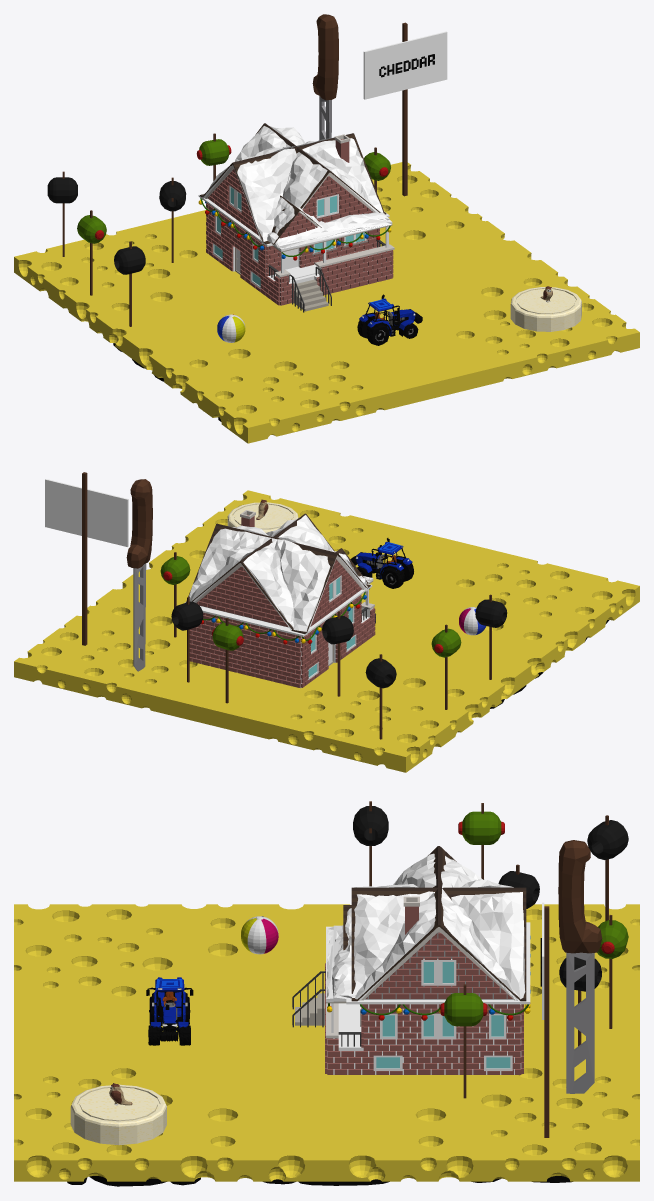
The picture shows the model from 3 angles, top to bottom: view 1: azimuth 30°, elevation 25°; view 2: azimuth 150°, elevation 25°; view 3: azimuth 270°, elevation 25°; orthographic projection. The views are drawn at different scales.
Parts seen in each view (by area): view 1: Cube.022, Cube.1419, Cube.023, Cylinder.016, Cube.024, VEHICLES_TRACTOR, Sphere.017, Sphere.016, Sphere.020, Sphere.018, Sphere.022, OBJRANDOM_BEACHBALL (+1 smaller); view 2: Cube.022, Cube.1419, Cube.023, Cube.024, VEHICLES_TRACTOR, Cylinder.016, Sphere.020, Sphere.016, Sphere.022, Sphere.017, Sphere.021, Sphere.018 (+2 smaller); view 3: Cube.022, Cube.1419, Cube.024, Cylinder.016, VEHICLES_TRACTOR, Cube.023, Sphere.019, Sphere.016, Sphere.018, Curve.014, Sphere.017, Sphere.022 (+3 smaller).
Boxes of the visible parts, box(x1,y1,x2,y2) form: Cube.022: box(14, 162, 639, 443); Cube.1419: box(198, 123, 394, 312); Cube.023: box(363, 22, 447, 196); Cylinder.016: box(510, 287, 581, 331); Cube.024: box(312, 14, 338, 140); VEHICLES_TRACTOR: box(357, 294, 422, 345); Sphere.017: box(114, 241, 145, 326); Sphere.016: box(47, 171, 77, 256); Sphere.020: box(159, 177, 186, 262); Sphere.018: box(77, 210, 106, 295); Sphere.022: box(196, 133, 231, 180); OBJRANDOM_BEACHBALL: box(217, 314, 245, 342); Cube.022: box(14, 490, 639, 772); Cube.1419: box(185, 510, 375, 688); Cube.023: box(45, 472, 128, 645); Cube.024: box(126, 479, 152, 671); VEHICLES_TRACTOR: box(350, 538, 413, 588); Cylinder.016: box(227, 502, 298, 532); Sphere.020: box(322, 611, 353, 696); Sphere.016: box(365, 654, 396, 739); Sphere.022: box(212, 618, 243, 703); Sphere.017: box(475, 594, 507, 679); Sphere.021: box(171, 597, 203, 682); Sphere.018: box(431, 624, 461, 709); Cube.022: box(14, 904, 639, 1181); Cube.1419: box(292, 846, 530, 1074); Cube.024: box(558, 840, 602, 1093); Cylinder.016: box(70, 1084, 166, 1145); VEHICLES_TRACTOR: box(146, 977, 193, 1045); Cube.023: box(540, 902, 549, 1137); Sphere.019: box(440, 984, 487, 1098); Sphere.016: box(587, 815, 628, 920); Sphere.018: box(458, 803, 504, 879); Curve.014: box(67, 1176, 572, 1186); Sphere.017: box(353, 801, 388, 886); Sphere.022: box(597, 915, 628, 1028).
Size of the model in its own units: 3917 by 1980 by 4000.
Materials: 41 (3 with a texture image).
